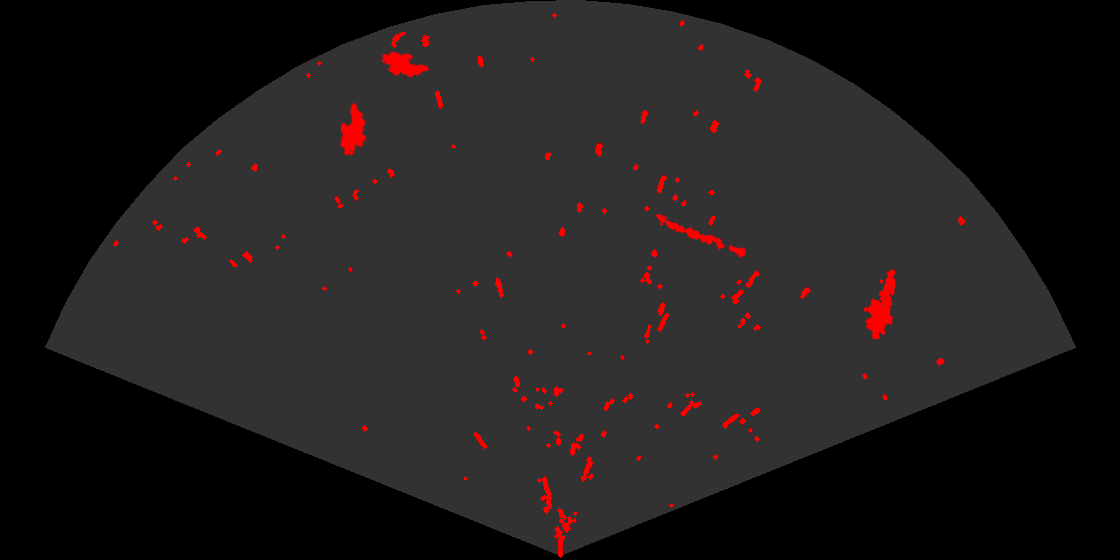AUV: (338, 101, 368, 158), (380, 50, 431, 79)
chain: (654, 212, 748, 259)
frogman: (861, 267, 897, 339)
